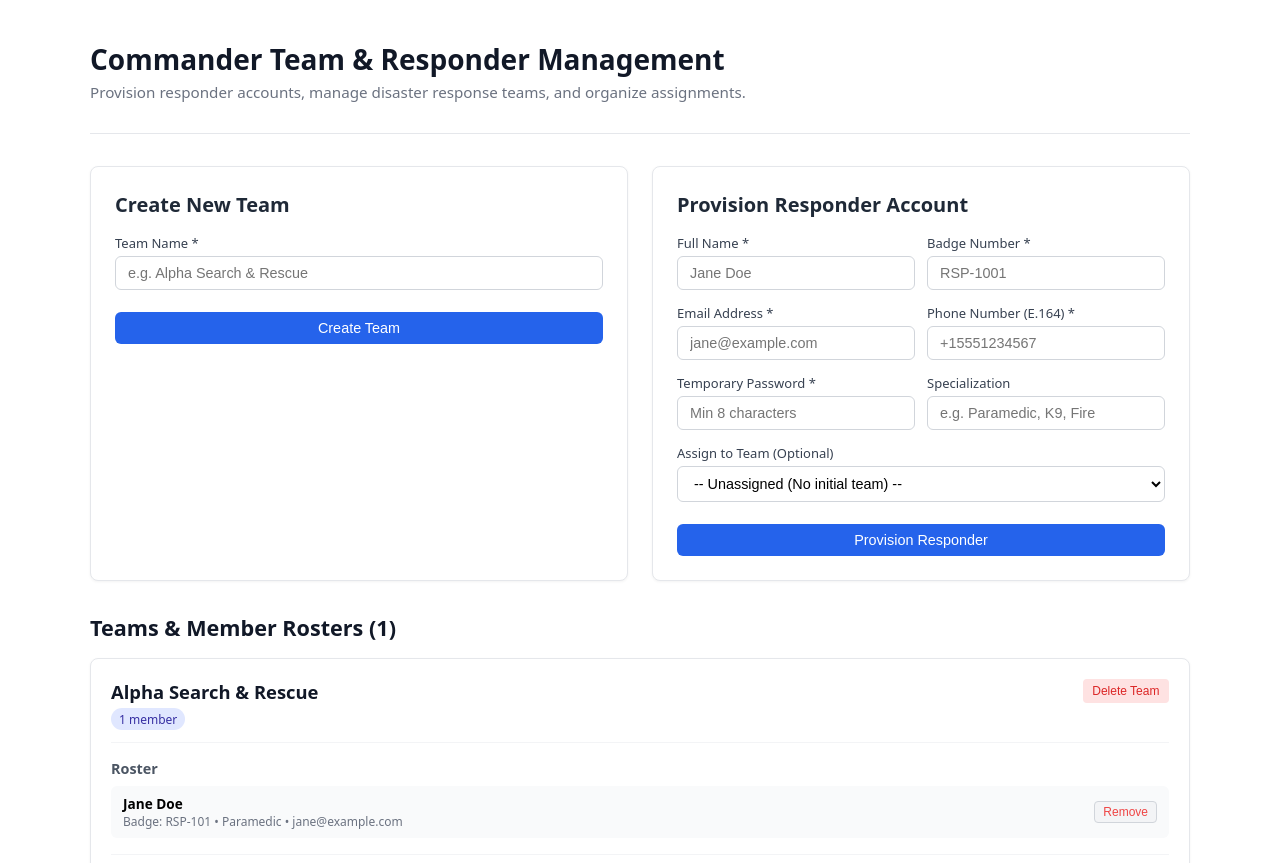
it: CommanderTeamsView › handles remove responder click
What coordinates should you click on to do the following:
click the button "Remove"
I would click on:
 (1126, 812)
Its box is [1094, 801, 1157, 823].
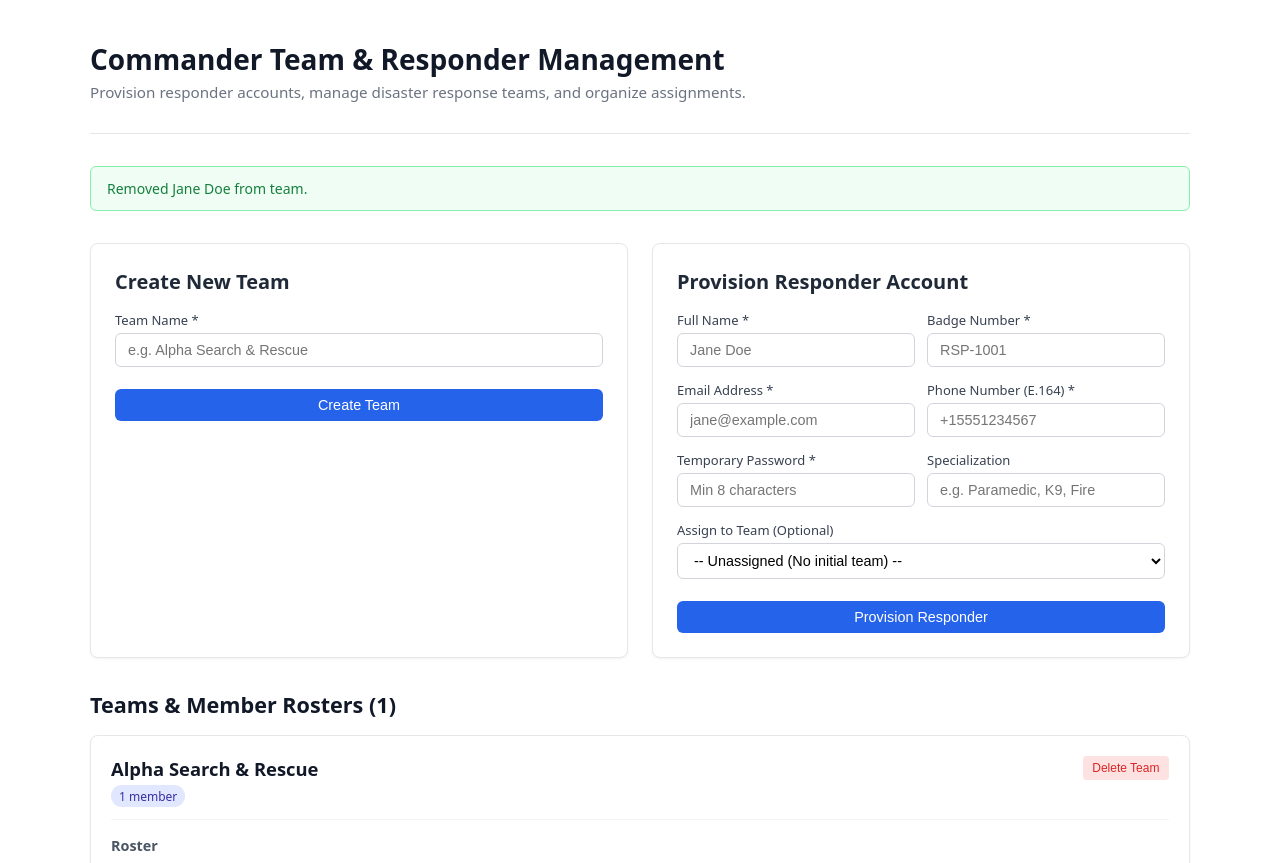
Expected: the text "Removed Jane Doe from team." is shown, [90, 166, 1190, 211]
